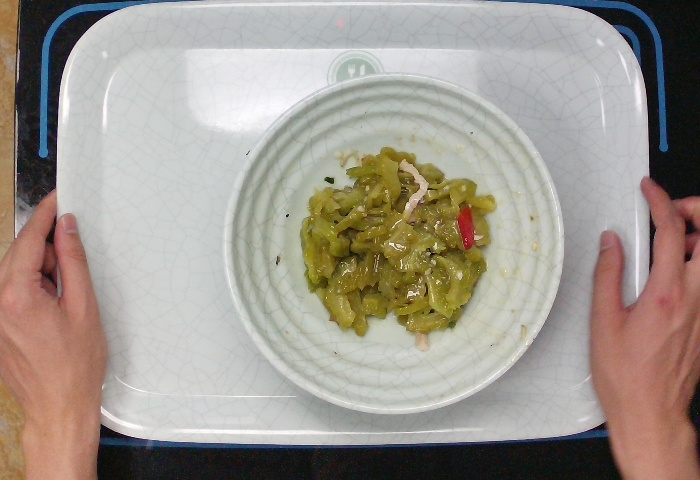JYsf-Da_Tang_Wan: (221, 74, 569, 416)
